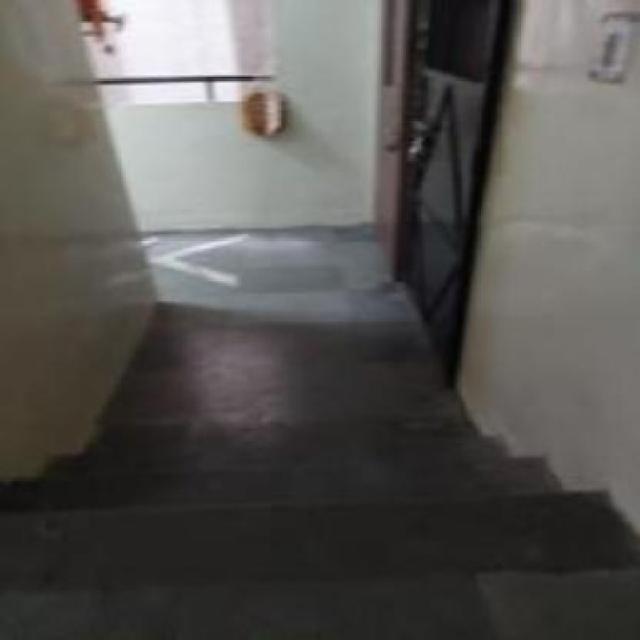stair: (22, 411, 622, 551)
